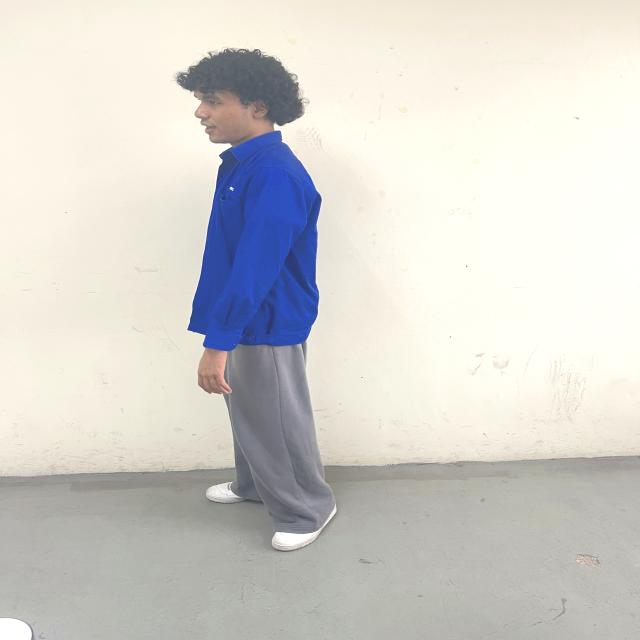person_with_labcoat: (176, 50, 337, 551)
